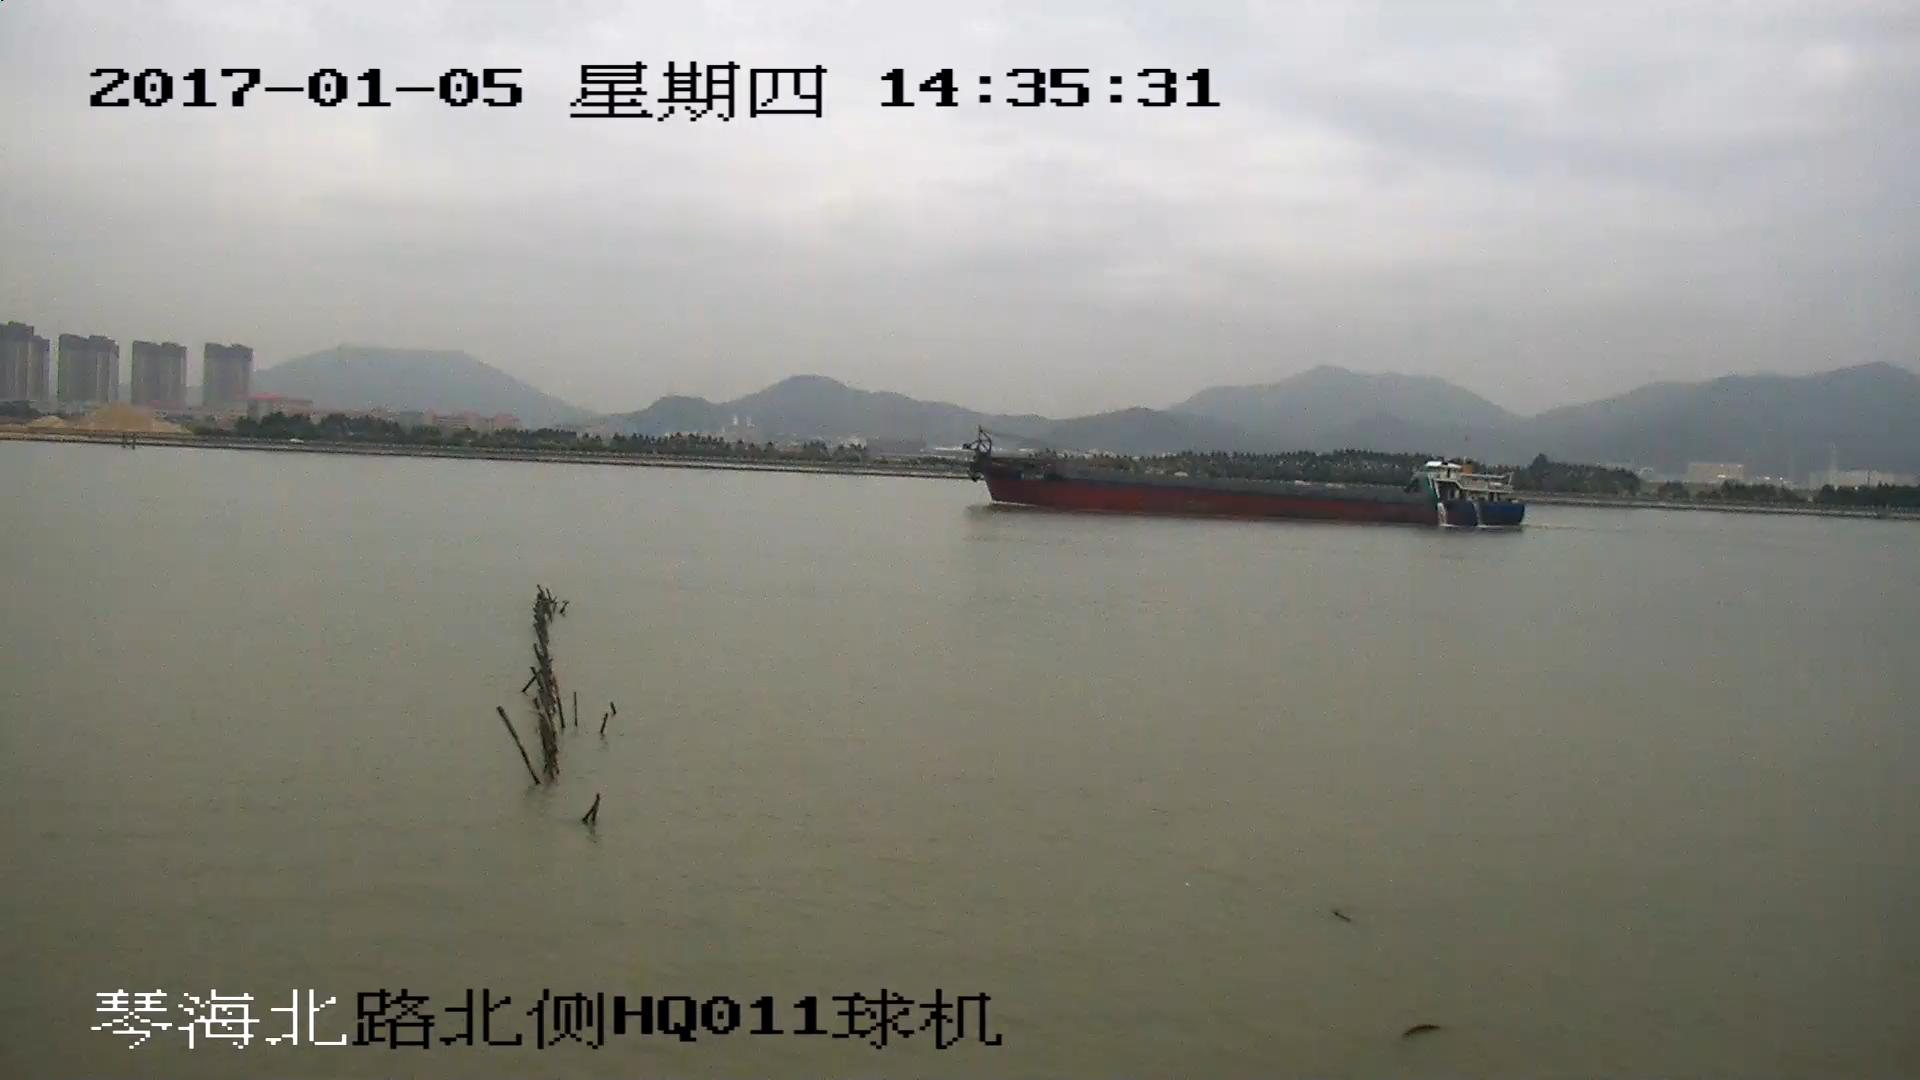bulk cargo carrier: (963, 429, 1528, 532)
